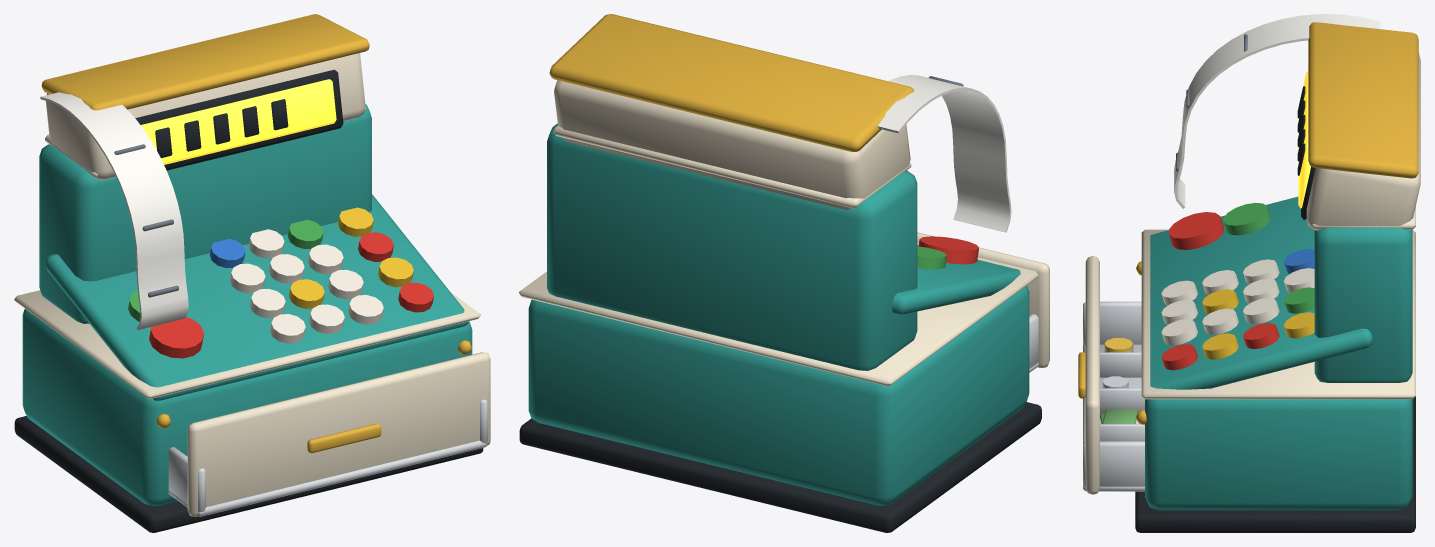
Rendered from truck_cash_register.glb.
3 renders of one model, left to right at view 1: azimuth 30°, elevation 25°; view 2: azimuth 150°, elevation 25°; view 3: azimuth 270°, elevation 25°, orthographic. The views are drawn at different scales.
Visible parts, largest first — view 1: TruckCashRegister; view 2: TruckCashRegister; view 3: TruckCashRegister.
Boxes of the visible parts, x1,y1,x2,y2 form: TruckCashRegister: (14,14,490,532); TruckCashRegister: (519,14,1049,532); TruckCashRegister: (1078,14,1420,532).
Bounding box in the file's own units: 6 × 6.15 × 5.24.
